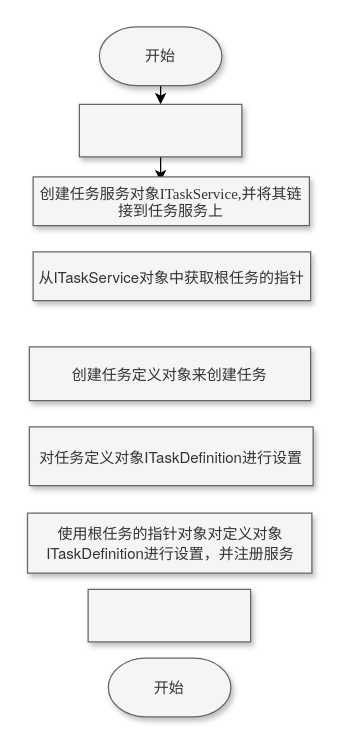
Some shapes in this 343 by 748 pixel diagram are drawn without their labels. Each missing label, with the centre of its shape:
"初始化COM环境接口" goes at point (161, 132).
"完成计划任务自启" goes at point (170, 617).
